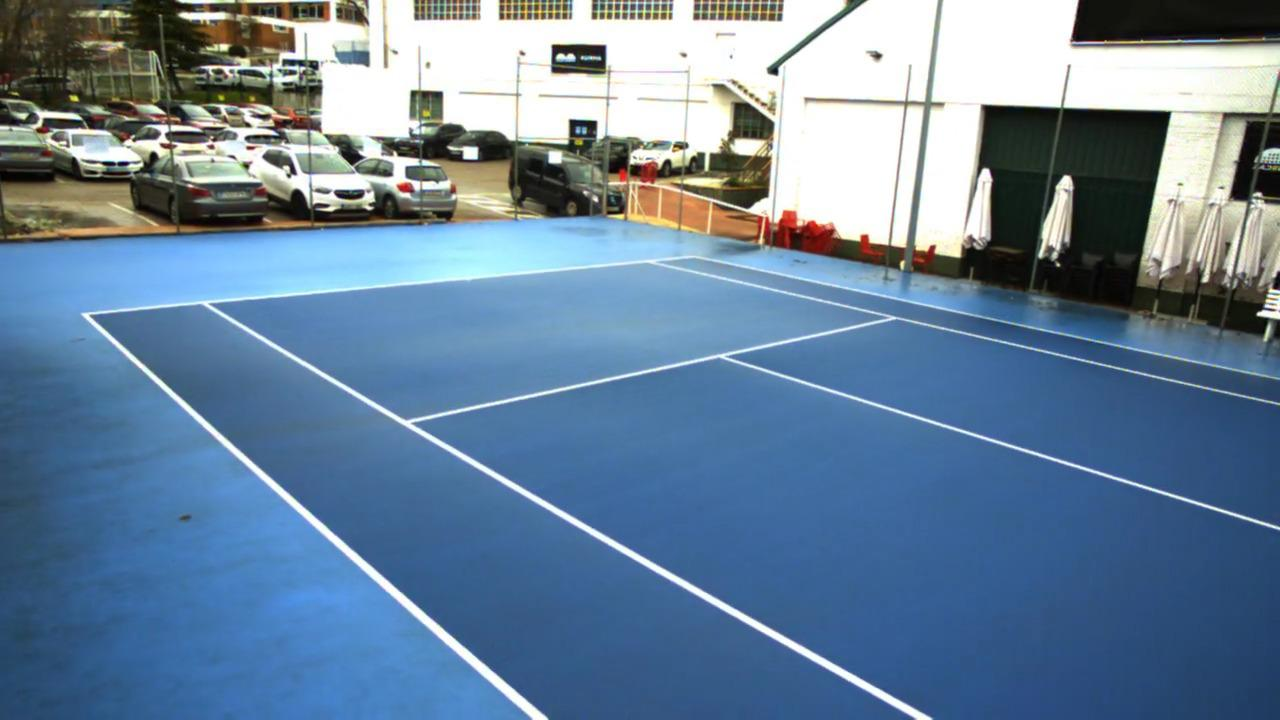cancha_tenis: (207, 260, 1280, 720)
point_f1: (196, 296, 217, 314)
point_f2: (639, 252, 664, 269)
point_fc1: (459, 272, 474, 286)
point_i1: (395, 411, 427, 435)
point_i2: (879, 307, 901, 327)
point_ic1: (710, 344, 736, 368)
